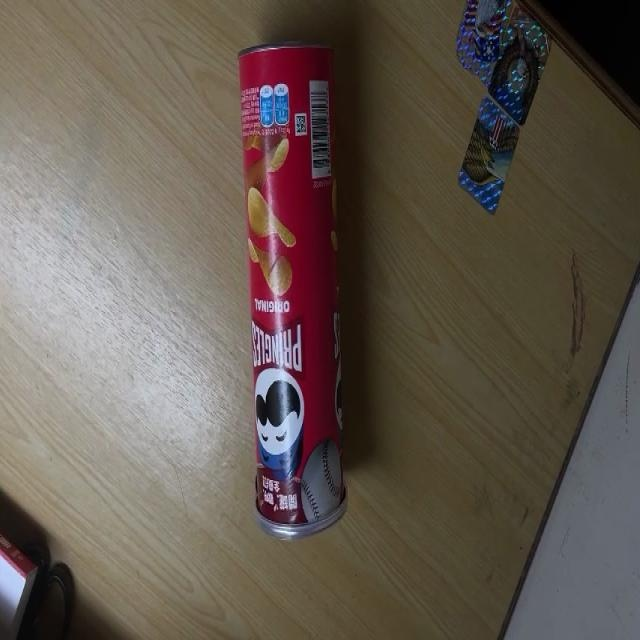Pringles: (236, 41, 346, 542)
